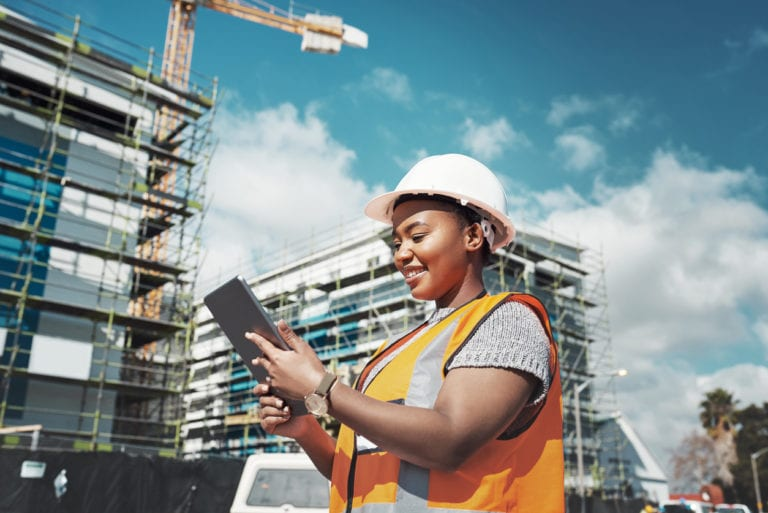hat: (331, 288, 570, 513)
jacket: (359, 146, 521, 247)
